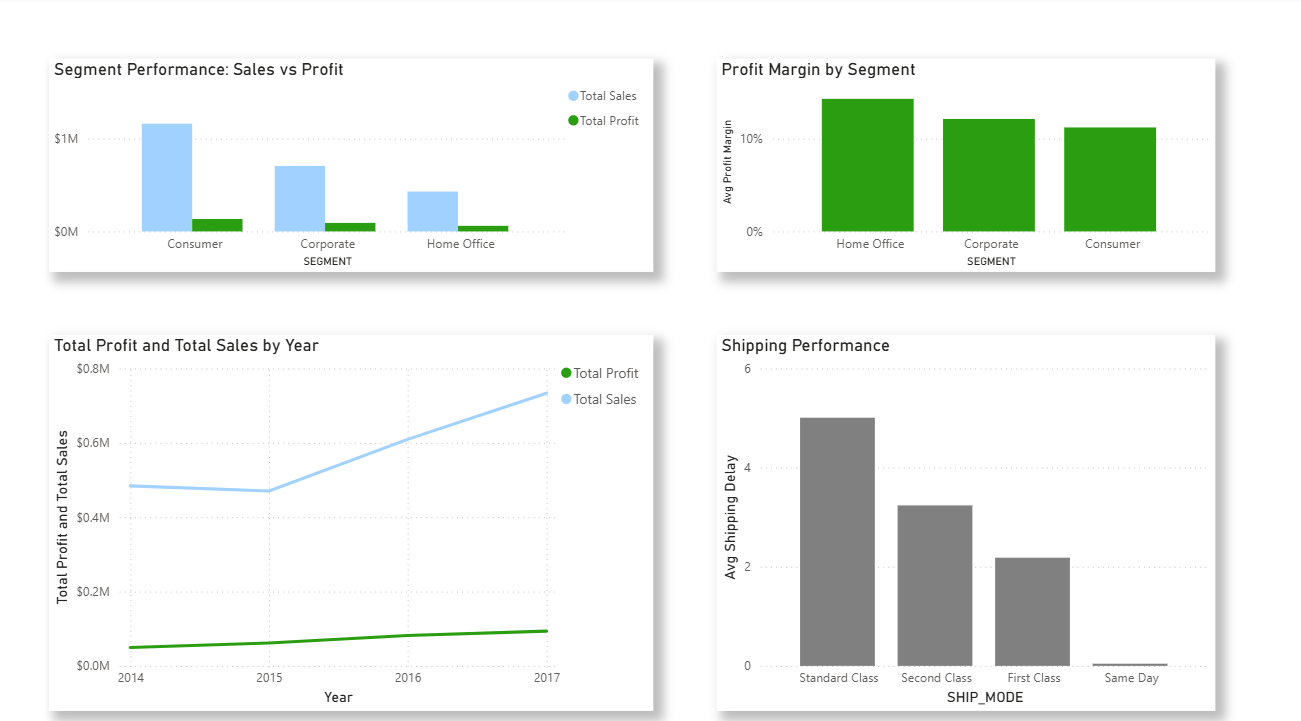

The dashboard page shown, as its layout file describes it:
{"tool":"powerbi","page":{"name":"Page 2","canvas":[1280,720],"ordinal":1},"visuals":[{"type":"clusteredColumnChart","title":"Segment Performance: Sales vs Profit","fields":{"Category":["SUPERSTORE_CLEAN.SEGMENT"],"Y":["SUPERSTORE_CLEAN.Total Sales","SUPERSTORE_CLEAN.Total Profit"]},"box":[49.1,61.7,591,209.2],"z":0},{"type":"clusteredColumnChart","title":"Profit Margin by Segment","fields":{"Category":["SUPERSTORE_CLEAN.SEGMENT"],"Y":["SUPERSTORE_CLEAN.Avg Profit Margin"]},"box":[701.9,61.7,487.7,209.2],"z":1000},{"type":"lineChart","fields":{"Category":["SUPERSTORE_CLEAN.ORDER_DATE.Variation.Date Hierarchy.Year","SUPERSTORE_CLEAN.ORDER_DATE.Variation.Date Hierarchy.Quarter","SUPERSTORE_CLEAN.ORDER_DATE.Variation.Date Hierarchy.Month","SUPERSTORE_CLEAN.ORDER_DATE.Variation.Date Hierarchy.Day"],"Y":["SUPERSTORE_CLEAN.Total Profit","SUPERSTORE_CLEAN.Total Sales"]},"box":[49.1,331.4,591,367.9],"z":2000},{"type":"clusteredColumnChart","title":"Shipping Performance","fields":{"Category":["SUPERSTORE_CLEAN.SHIP_MODE"],"Y":["SUPERSTORE_CLEAN.Avg Shipping Delay"]},"box":[701.9,331.4,487.7,367.9],"z":3000}]}

Visuals, with their boxes in screenshot pixels (x1, y1, x2, y2), scaled from the page's 1280x720 canvas onto the 1301x721 screenshot:
"Segment Performance: Sales vs Profit" clusteredColumnChart: BBox(50, 62, 651, 271)
"Profit Margin by Segment" clusteredColumnChart: BBox(713, 62, 1209, 271)
lineChart - SUPERSTORE_CLEAN.ORDER_DATE.Variation.Date Hierarchy.Year x SUPERSTORE_CLEAN.ORDER_DATE.Variation.Date Hierarchy.Quarter: BBox(50, 332, 651, 700)
"Shipping Performance" clusteredColumnChart: BBox(713, 332, 1209, 700)
